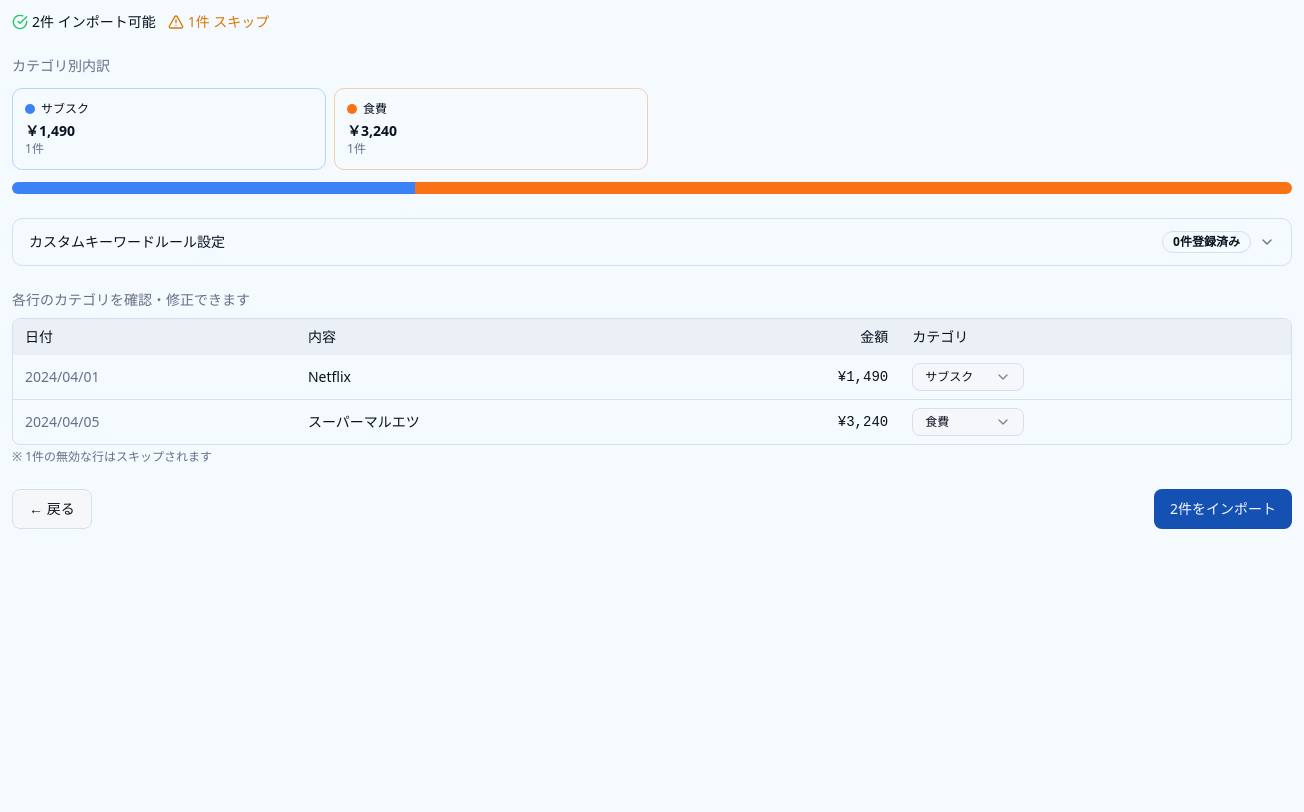
CategoryReviewPanel › marks a row as manually edited when its category is changed
Click the dropdown labelled "サブスク" at (968, 377), box top-left (912, 363), bottom-right (1024, 391)
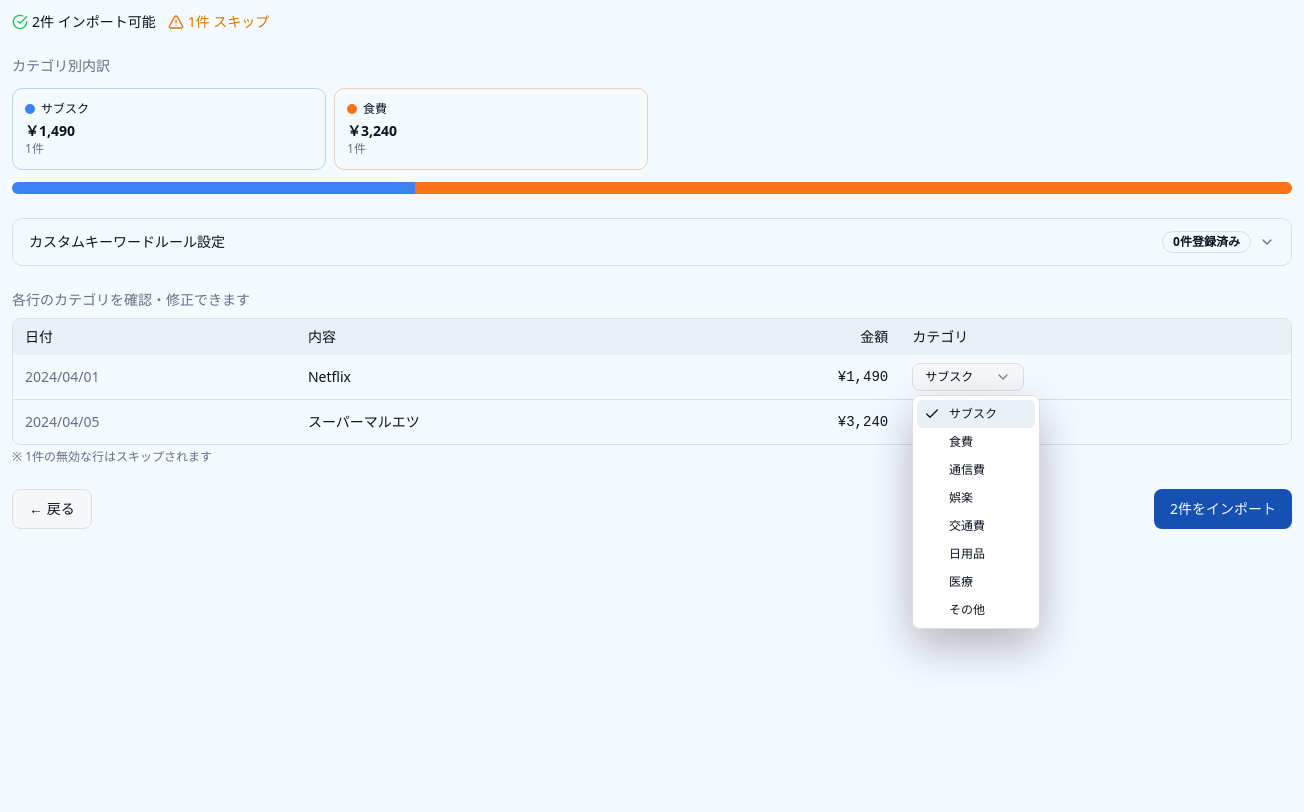
Click the option "通信費" at (967, 470), box top-left (949, 461), bottom-right (985, 478)
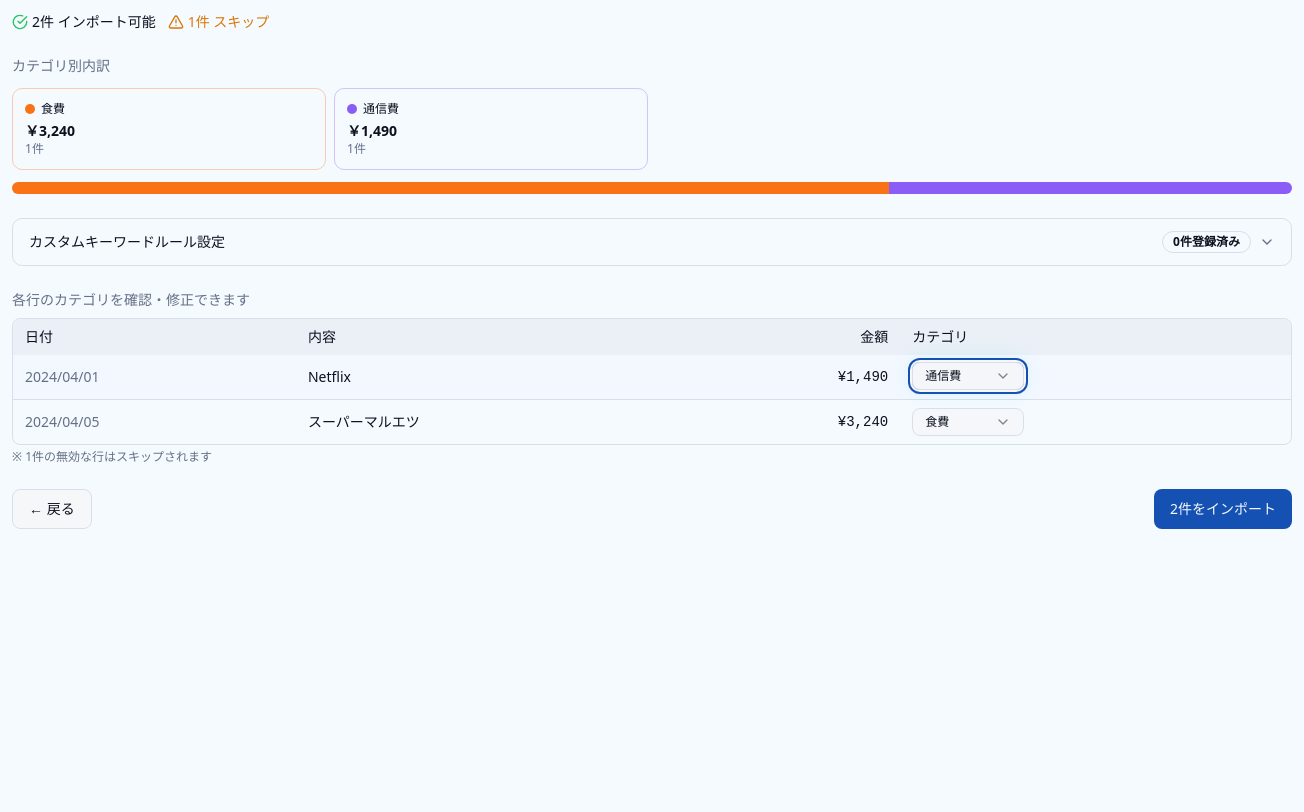
Expected: the text "通信費" in the row of "2024/04/01" is shown, top-left (925, 367), bottom-right (961, 384)
